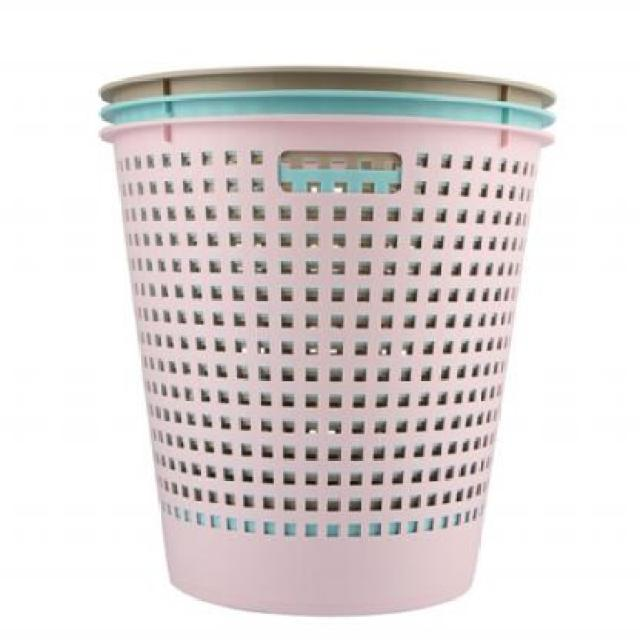dustbin: (93, 58, 562, 622)
